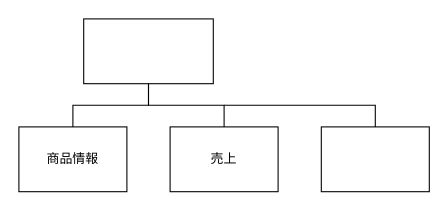
Image size: 448x211. Some labels were removed from this diagram. Here are the shapes that lost their labels. From the top down, the box of each, then its label:
(83, 18, 213, 84): 売上管理
(320, 126, 429, 192): 顧客情報
